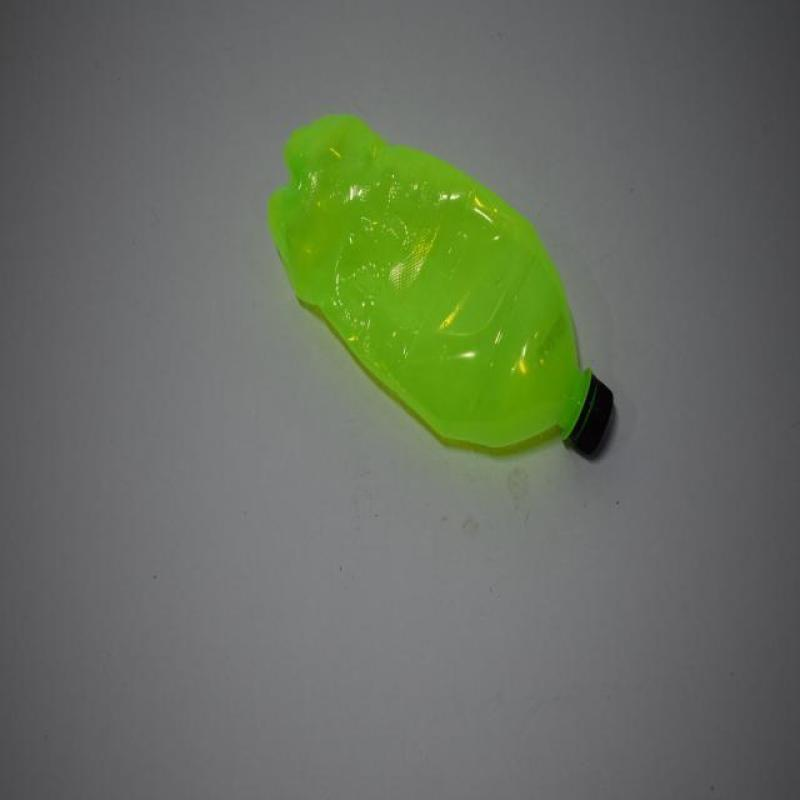botella: (268, 109, 616, 463)
